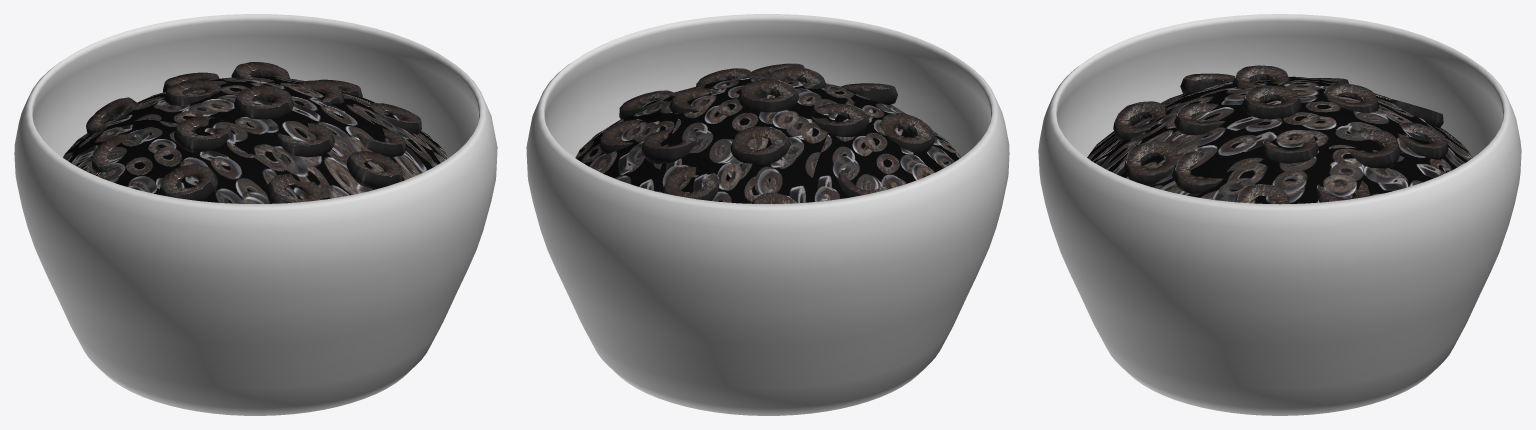
Rendered from olive_bowl2.fbx.
The picture shows the model from 3 angles, left to right: view 1: azimuth 30°, elevation 25°; view 2: azimuth 150°, elevation 25°; view 3: azimuth 270°, elevation 25°; orthographic projection.
Parts seen in each view (by area): view 1: Sphere, Sphere.001, olive.013, olive.003, olive.014, olive, olive.008, olive.007, olive.006, olive.012, olive.009, olive.002 (+4 smaller); view 2: Sphere, Sphere.001, olive.006, olive.013, olive.003, olive, olive.001, olive.005, olive.008, olive.007, olive.009, olive.010 (+3 smaller); view 3: Sphere, Sphere.001, olive.014, olive.013, olive.007, olive.001, olive.005, olive.006, olive.002, olive.008, olive, olive.011 (+4 smaller).
Boxes of the visible parts, left/top/right/bottom form: Sphere: left=14, top=14, right=497, bottom=415; Sphere.001: left=63, top=76, right=448, bottom=203; olive.013: left=234, top=85, right=293, bottom=119; olive.003: left=159, top=164, right=217, bottom=201; olive.014: left=346, top=151, right=402, bottom=189; olive: left=174, top=116, right=231, bottom=152; olive.008: left=277, top=123, right=334, bottom=157; olive.007: left=266, top=173, right=323, bottom=203; olive.006: left=164, top=80, right=221, bottom=105; olive.012: left=86, top=97, right=138, bottom=135; olive.009: left=369, top=103, right=421, bottom=134; olive.002: left=356, top=128, right=406, bottom=157; Sphere: left=526, top=14, right=1009, bottom=415; Sphere.001: left=575, top=76, right=960, bottom=203; olive.006: left=730, top=126, right=790, bottom=164; olive.013: left=738, top=79, right=799, bottom=112; olive.003: left=880, top=113, right=935, bottom=153; olive: left=811, top=103, right=869, bottom=136; olive.001: left=641, top=129, right=697, bottom=163; olive.005: left=662, top=166, right=719, bottom=200; olive.008: left=767, top=67, right=826, bottom=88; olive.007: left=840, top=83, right=897, bottom=105; olive.009: left=619, top=90, right=674, bottom=119; olive.010: left=599, top=119, right=641, bottom=153; Sphere: left=1038, top=14, right=1521, bottom=415; Sphere.001: left=1087, top=76, right=1472, bottom=203; olive.014: left=1124, top=141, right=1179, bottom=185; olive.013: left=1242, top=85, right=1301, bottom=119; olive.007: left=1113, top=101, right=1167, bottom=140; olive.001: left=1348, top=129, right=1401, bottom=168; olive.005: left=1398, top=122, right=1448, bottom=159; olive.006: left=1323, top=83, right=1379, bottom=112; olive.002: left=1172, top=150, right=1222, bottom=193; olive.008: left=1174, top=103, right=1225, bottom=135; olive: left=1232, top=65, right=1290, bottom=87; olive.011: left=1262, top=136, right=1318, bottom=163.
Bounding box in the file's own units: 39.86 × 23.18 × 39.86.
17 materials, 16 textured.
